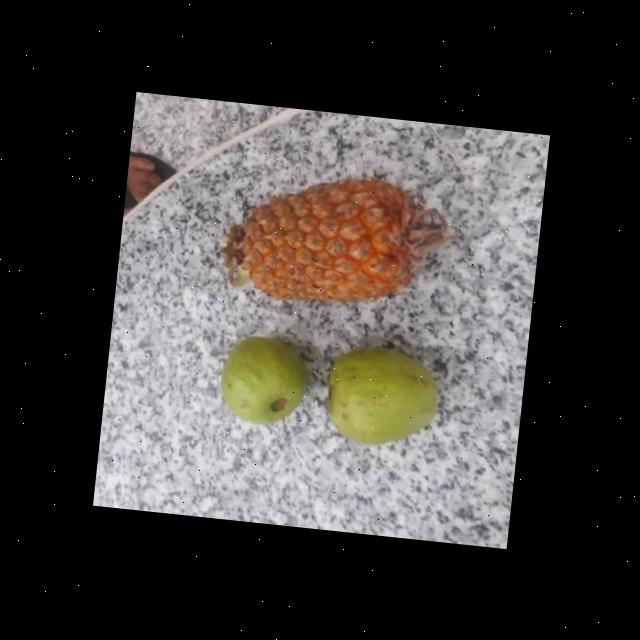guava: (324, 339, 440, 455), (216, 333, 310, 435)
pineapple: (221, 162, 426, 314)
